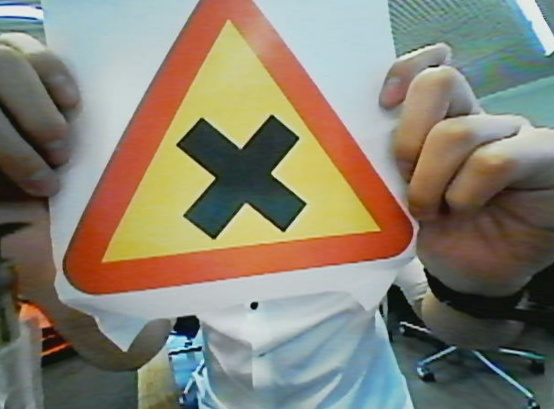junction: (50, 1, 422, 294)
